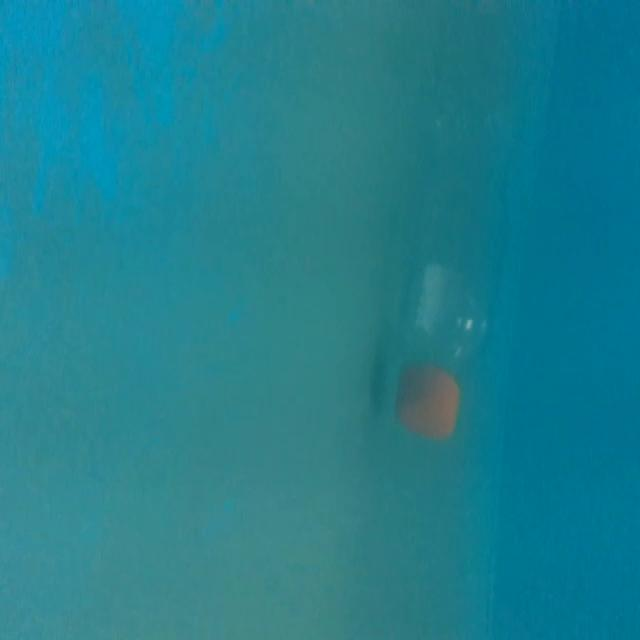plastic bottle: (389, 74, 512, 444)
